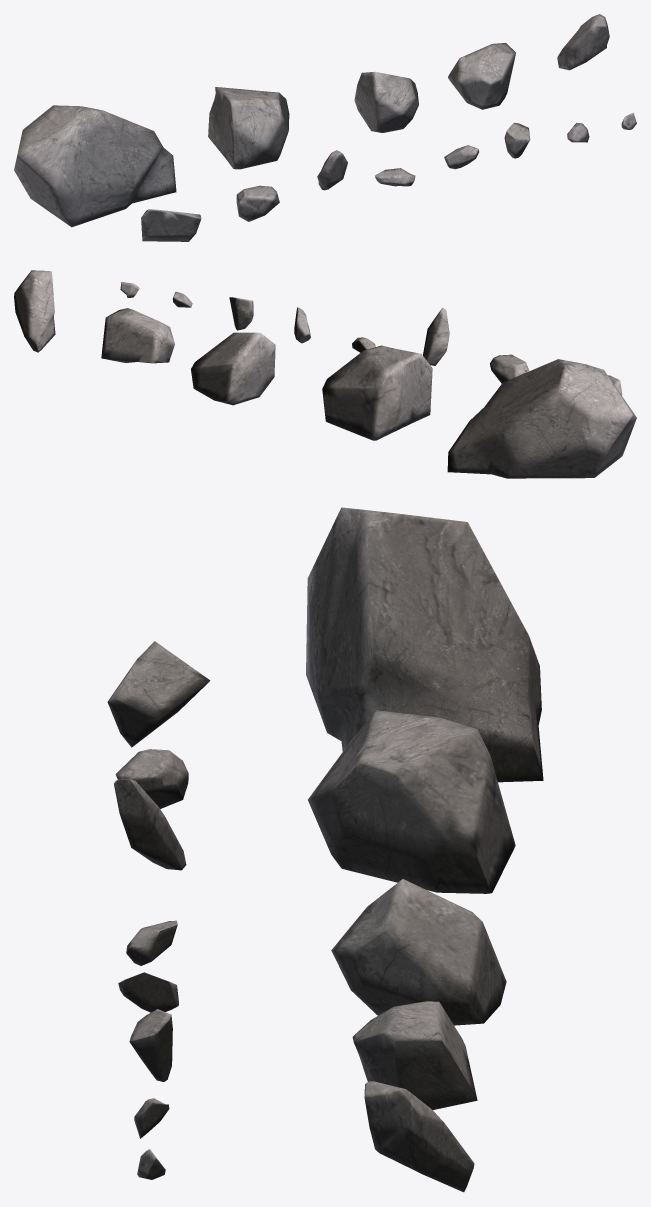
The model's file is rocks.fbx.
3 views of the same model, one above another, from view 1: azimuth 30°, elevation 25°; view 2: azimuth 150°, elevation 25°; view 3: azimuth 270°, elevation 25° (orthographic). The views are drawn at different scales.
Parts seen in each view (by area): view 1: rocks.005, rocks.004, rocks.003, rocks.011, rocks.012, rocks.002, rocks.006, rocks.008, rocks.009, rocks.001, rocks, rocks.010; view 2: rocks.005, rocks.004, rocks.011, rocks.003, rocks.012, rocks.008, rocks.006, rocks.009, rocks; view 3: rocks.005, rocks.004, rocks.011, rocks.003, rocks.012, rocks.002, rocks.008, rocks.006, rocks.009, rocks, rocks.001.
Boxes of the visible parts, x1,y1,x2,y2 form: rocks.005: (14,105,176,227); rocks.004: (208,87,289,169); rocks.003: (448,43,515,109); rocks.011: (354,71,418,132); rocks.012: (557,14,609,70); rocks.002: (141,209,201,241); rocks.006: (236,185,279,221); rocks.008: (317,150,347,190); rocks.009: (504,122,530,158); rocks.001: (375,168,415,186); rocks: (444,145,479,169); rocks.010: (567,123,589,142); rocks.005: (447,359,636,478); rocks.004: (322,345,432,440); rocks.011: (191,332,275,405); rocks.003: (101,308,174,363); rocks.012: (14,270,55,352); rocks.008: (423,307,449,365); rocks.006: (490,354,529,383); rocks.009: (229,297,253,330); rocks: (294,307,310,343); rocks.005: (306,507,543,782); rocks.004: (308,710,515,893); rocks.011: (331,879,506,1025); rocks.003: (352,1001,477,1109); rocks.012: (364,1081,474,1192); rocks.002: (107,641,210,747); rocks.008: (114,779,186,870); rocks.006: (115,749,188,808); rocks.009: (129,1009,172,1081); rocks: (118,972,178,1012); rocks.001: (126,920,177,965).
Bounding box in the file's own units: 2668 × 429 × 848.
